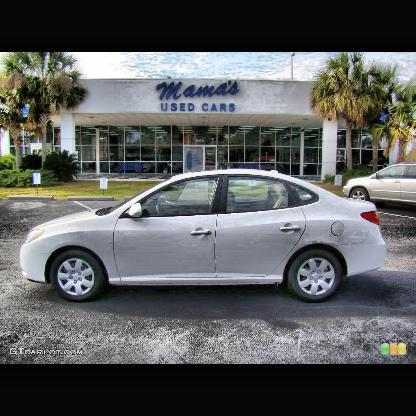Hyundai Elantra Sedan 2007: (19, 168, 388, 306)
